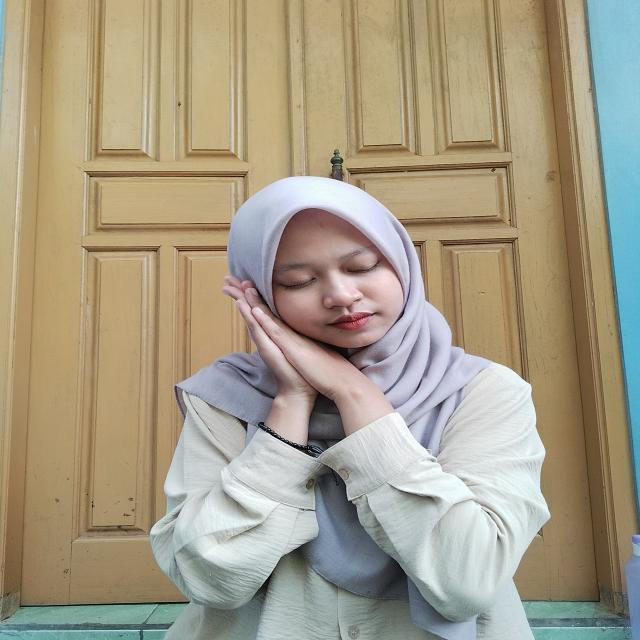tidur: (205, 270, 400, 457)
